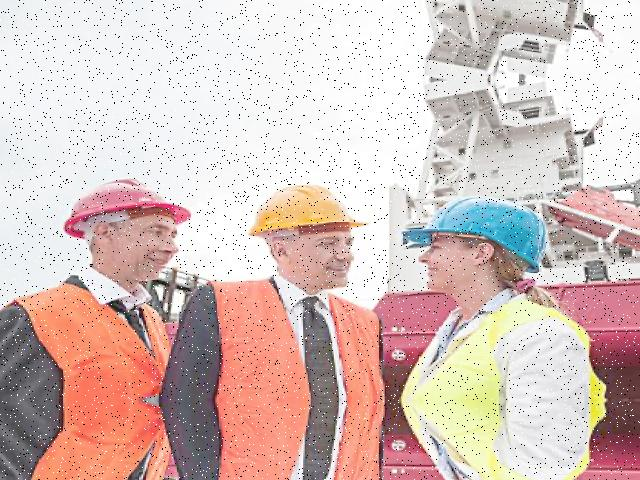Helmet: (401, 190, 559, 274), (57, 174, 197, 246), (242, 177, 377, 244)
